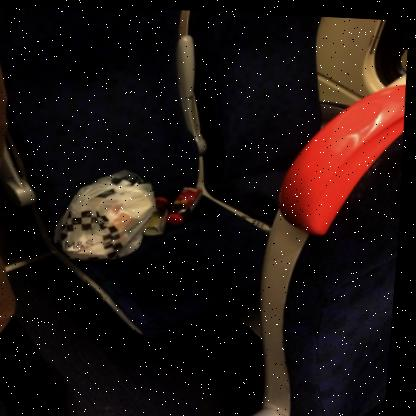Plastic: (58, 169, 159, 260), (170, 184, 206, 223), (146, 195, 172, 235)
Waste: (170, 212, 187, 223)
